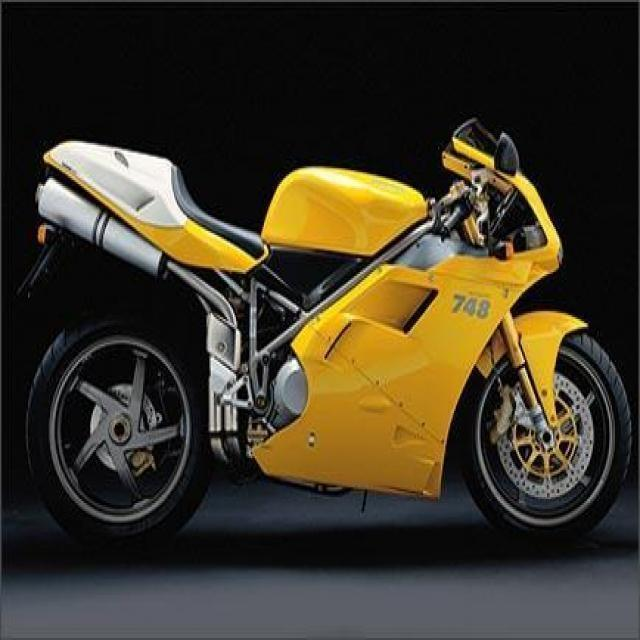Motorcycle: (21, 110, 632, 566)
